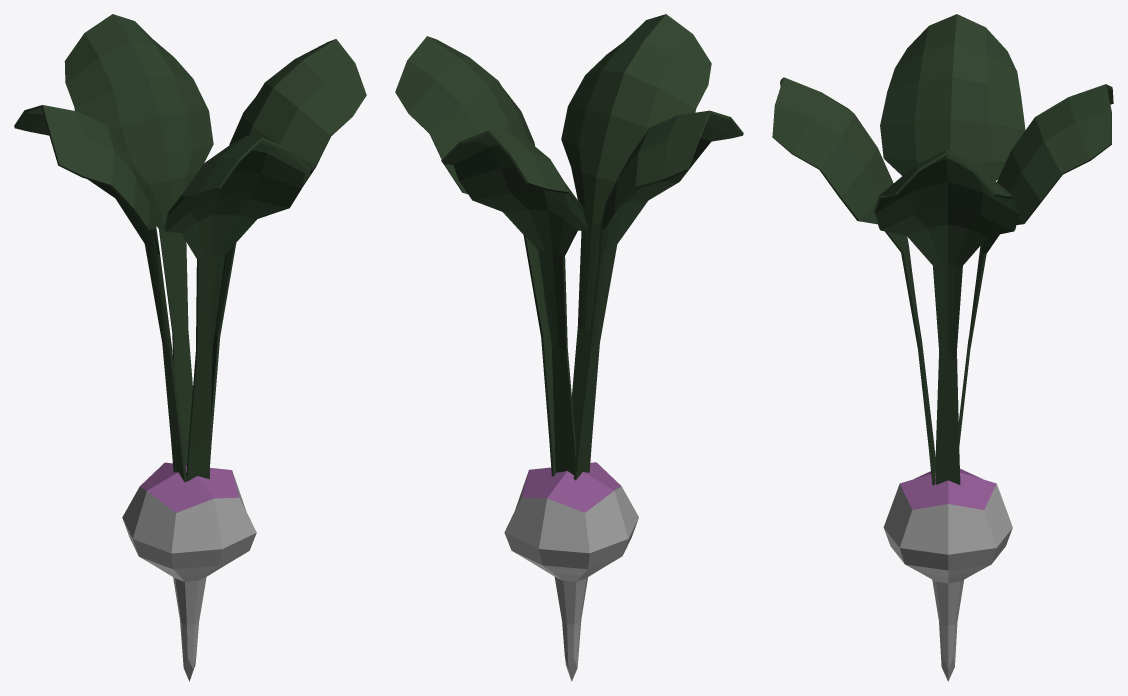
File: quaternius-ultimate-food-turnip.glb
3 views of the same model, side by side, from view 1: azimuth 30°, elevation 25°; view 2: azimuth 150°, elevation 25°; view 3: azimuth 270°, elevation 25° (orthographic).
Visible parts, largest first — view 1: Turnip; view 2: Turnip; view 3: Turnip.
Boxes of the visible parts, <box> form: Turnip: <box>14,14,366,681</box>; Turnip: <box>395,14,743,681</box>; Turnip: <box>772,14,1113,681</box>.
Bounding box in the file's own units: 1.25 × 2.39 × 1.23.
